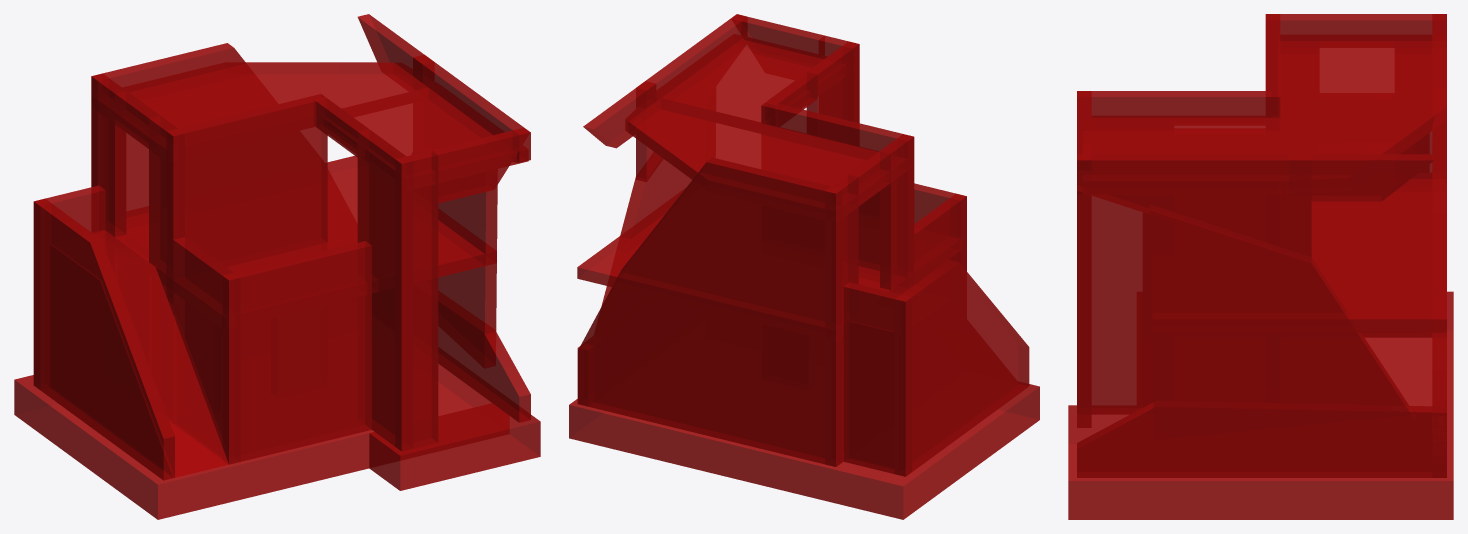
The model's file is SM_Bld_Village_House_02_Destroyed_Collision.fbx.
3 views of the same model, side by side, from view 1: azimuth 30°, elevation 25°; view 2: azimuth 150°, elevation 25°; view 3: azimuth 270°, elevation 25° (orthographic). The views are drawn at different scales.
Visible parts, largest first — view 1: SM_Bld_Village_House_02_Destroyed_Collision; view 2: SM_Bld_Village_House_02_Destroyed_Collision; view 3: SM_Bld_Village_House_02_Destroyed_Collision.
Boxes of the visible parts, <box> form: SM_Bld_Village_House_02_Destroyed_Collision: <box>14,14,540,519</box>; SM_Bld_Village_House_02_Destroyed_Collision: <box>569,14,1039,519</box>; SM_Bld_Village_House_02_Destroyed_Collision: <box>1068,14,1453,519</box>.
Size of the model in its own units: 768 by 674 by 660.
